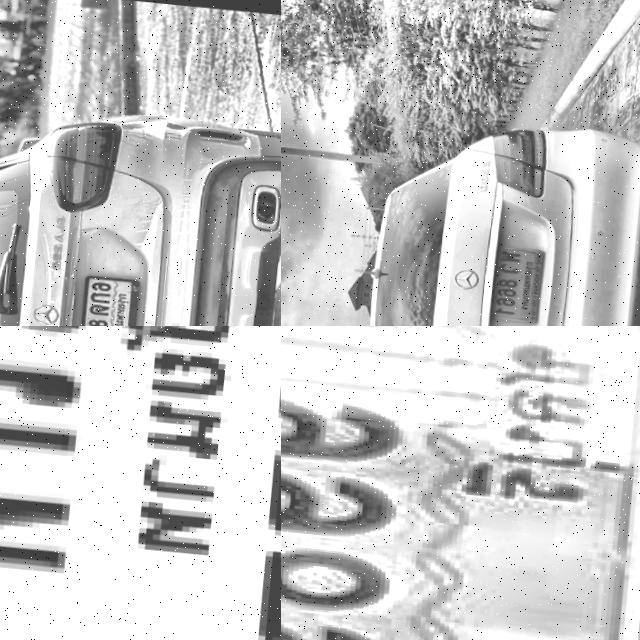license-plate: (281, 326, 640, 640), (0, 326, 281, 640), (483, 246, 545, 323), (72, 273, 144, 326)
